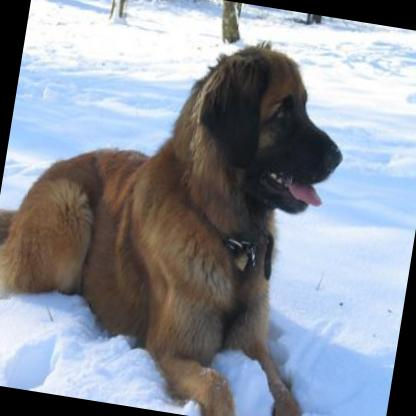Leonberg: (0, 1, 360, 416)
